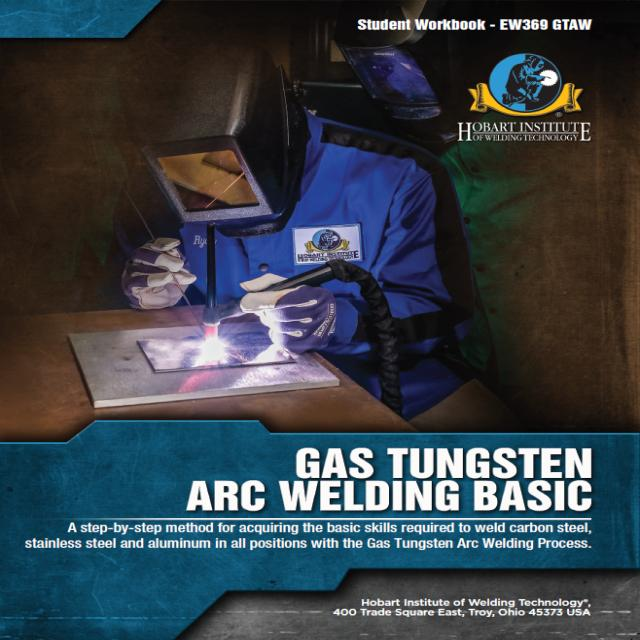welding: (202, 338, 224, 358)
